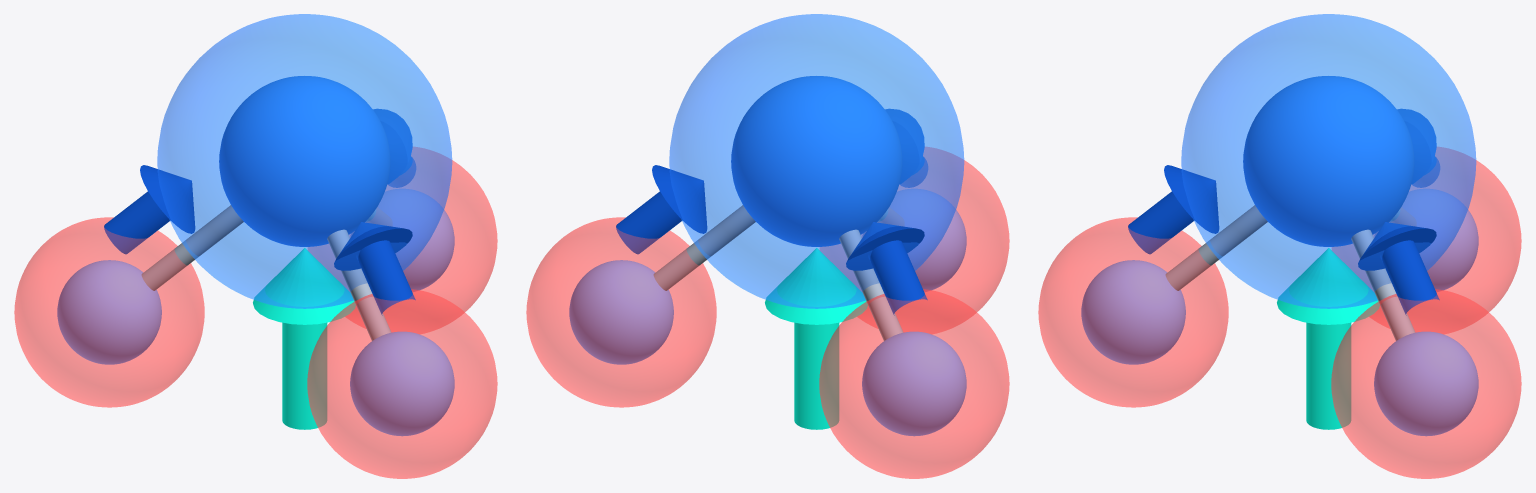
3 renders of one model, left to right at view 1: azimuth 30°, elevation 25°; view 2: azimuth 150°, elevation 25°; view 3: azimuth 270°, elevation 25°, orthographic.
Parts seen in each view (by area): view 1: dminus, dp0, dp1, N, dp2, H0, H1, net_c, H2, net_s, b1, bd0_s (+5 smaller); view 2: dminus, dp1, dp2, N, dp0, H1, H2, net_c, H0, net_s, b2, bd1_s (+5 smaller); view 3: dminus, dp2, dp0, N, dp1, H2, H0, net_c, H1, net_s, b0, bd2_s (+5 smaller).
Boxes of the visible parts, x1,y1,x2,y2 form: dminus: (157,14,452,308); dp0: (307,289,497,478); dp1: (14,217,204,407); N: (219,76,390,246); dp2: (308,147,497,333); H0: (350,331,454,436); H1: (57,260,161,364); net_c: (253,248,355,324); H2: (350,189,454,291); net_s: (282,322,327,429); b1: (141,205,243,290); bd0_s: (356,240,415,315); dminus: (669,14,964,308); dp1: (819,289,1009,478); dp2: (526,217,716,407); N: (731,76,902,246); dp0: (820,147,1009,333); H1: (862,331,966,436); H2: (569,260,673,364); net_c: (765,248,867,324); H0: (862,189,966,291); net_s: (794,322,839,429); b2: (653,205,755,290); bd1_s: (868,240,927,315); dminus: (1181,14,1476,308); dp2: (1331,289,1521,478); dp0: (1038,217,1228,407); N: (1243,76,1414,246); dp1: (1332,147,1521,333); H2: (1374,331,1478,436); H0: (1081,260,1185,364); net_c: (1277,248,1379,324); H1: (1374,189,1478,291); net_s: (1306,322,1351,429); b0: (1165,205,1267,290); bd2_s: (1380,240,1439,315).
Bounding box in the file's own units: 0.222 × 0.182 × 0.203.
